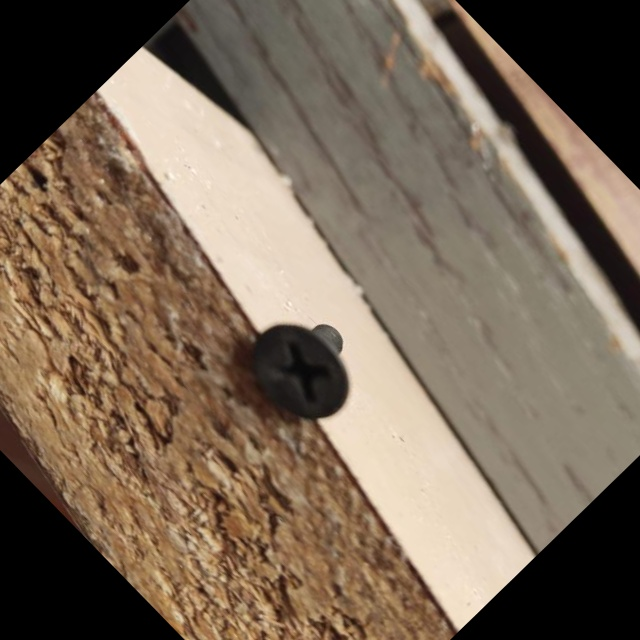phillips: (233, 305, 368, 440)
